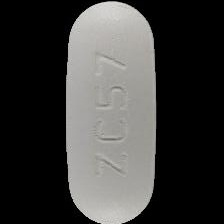63187-514: (0, 0, 224, 224)
